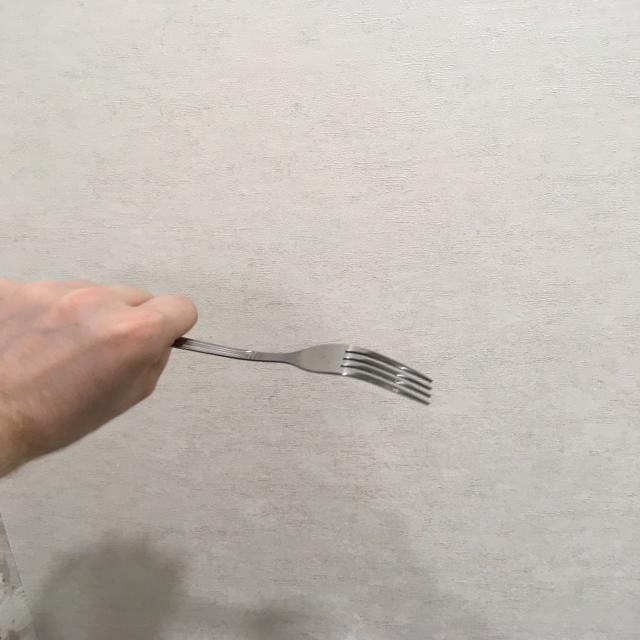fork: (118, 328, 436, 406)
